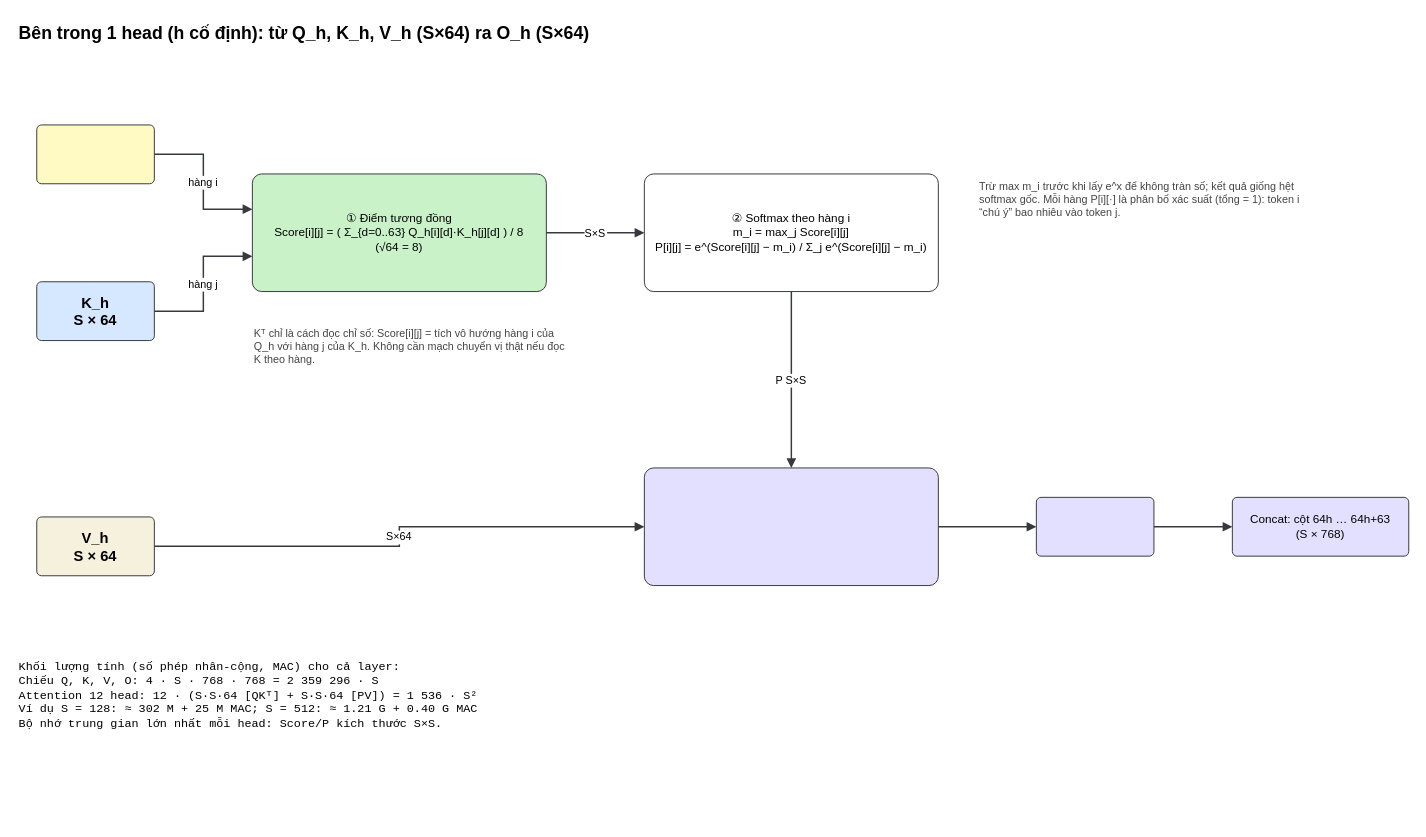
This 1426x837 diagram has some shape labels left out. Here are the shapes that lost their labels. From the top down, the centre of each, then its label:
At (95,154): "Q_h S × 64".
At (790,526): "③ Trộn V theo trọng số O_h[i][d] = Σ_{j=0..S−1} P[i][j]·V_h[j][d]".
At (1094,526): "O_h S × 64".
